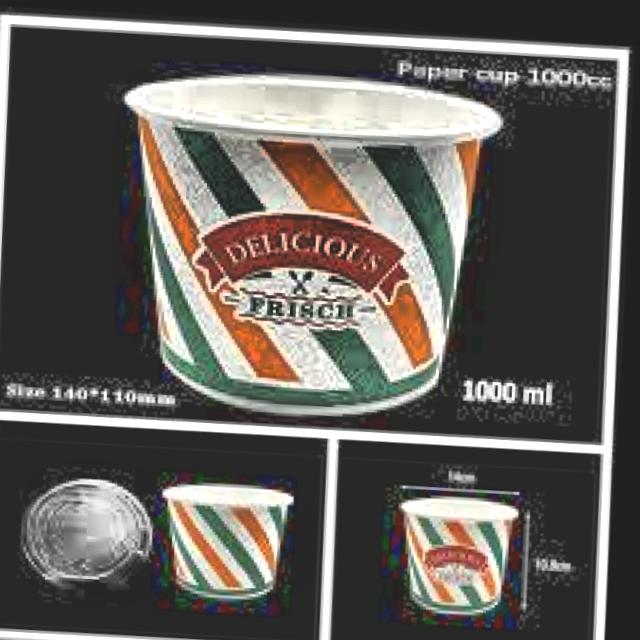Cup: (108, 63, 507, 422), (158, 470, 312, 614), (397, 478, 533, 611)
